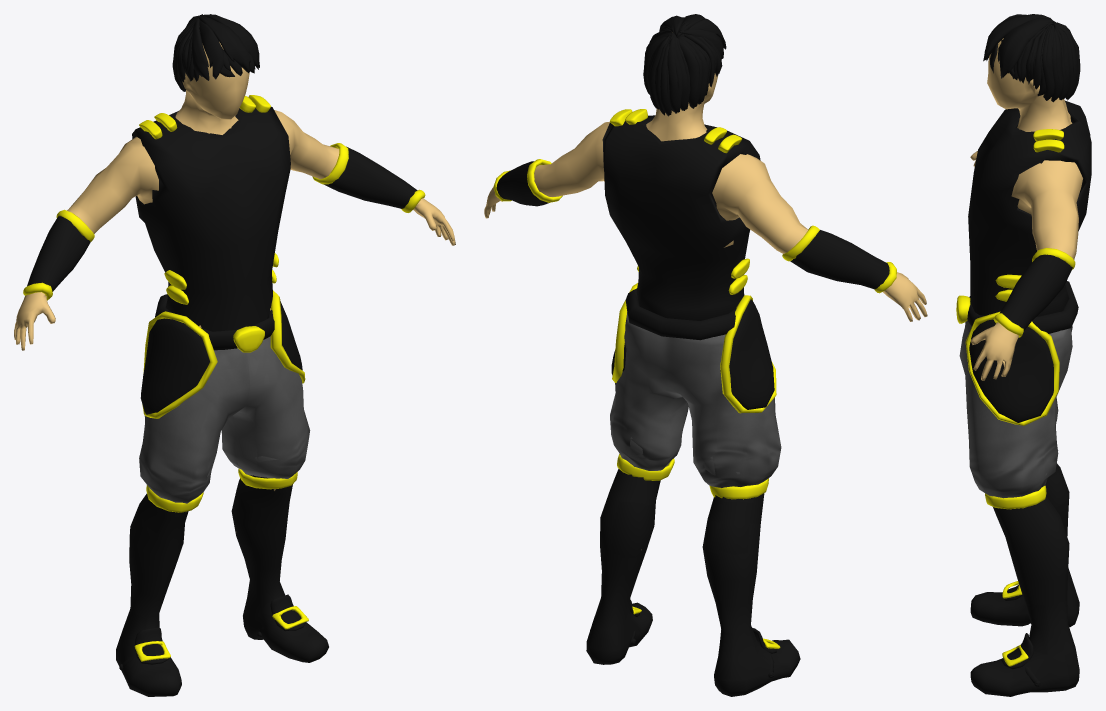
3 views of the same model, side by side, from view 1: azimuth 30°, elevation 25°; view 2: azimuth 150°, elevation 25°; view 3: azimuth 270°, elevation 25° (orthographic).
Parts seen in each view (by area): view 1: Extract7_2, Extract9, Extract13, export, Extract11_01, Extract12_01, Extract22, character_new2_5, Extract4_1, Extract21_01; view 2: Extract7_2, Extract13, Extract9, export, Extract11_01, character_new2_5, Extract12_01, Extract22, Extract21_01; view 3: Extract13, Extract7_2, export, Extract9, character_new2_5, Extract22, Extract11_01, Extract12_01, Extract21_01, Extract4_1.
Boxes of the visible parts, bbox=[...] form: Extract7_2: bbox=[132, 106, 290, 331]; Extract9: bbox=[139, 336, 310, 503]; Extract13: bbox=[116, 473, 328, 696]; export: bbox=[14, 42, 455, 490]; Extract11_01: bbox=[23, 95, 425, 661]; Extract12_01: bbox=[27, 146, 417, 291]; Extract22: bbox=[140, 301, 302, 414]; character_new2_5: bbox=[172, 14, 259, 91]; Extract4_1: bbox=[119, 594, 305, 670]; Extract21_01: bbox=[155, 294, 274, 350]; Extract7_2: bbox=[602, 115, 760, 320]; Extract13: bbox=[586, 468, 800, 696]; Extract9: bbox=[610, 312, 781, 487]; export: bbox=[484, 73, 927, 549]; Extract11_01: bbox=[493, 109, 896, 648]; character_new2_5: bbox=[643, 14, 726, 116]; Extract12_01: bbox=[496, 161, 889, 289]; Extract22: bbox=[611, 299, 774, 409]; Extract21_01: bbox=[625, 288, 736, 340]; Extract13: bbox=[970, 463, 1079, 696]; Extract7_2: bbox=[968, 100, 1091, 316]; export: bbox=[970, 38, 1082, 380]; Extract9: bbox=[959, 321, 1072, 498]; character_new2_5: bbox=[983, 14, 1080, 102]; Extract22: bbox=[969, 319, 1053, 422]; Extract11_01: bbox=[956, 129, 1075, 666]; Extract12_01: bbox=[999, 254, 1072, 330]; Extract21_01: bbox=[967, 281, 1078, 333]; Extract4_1: bbox=[1001, 585, 1040, 686].
Size of the model in its own units: 136 by 193 by 37.14.
Materials: 10 (10 with a texture image).
